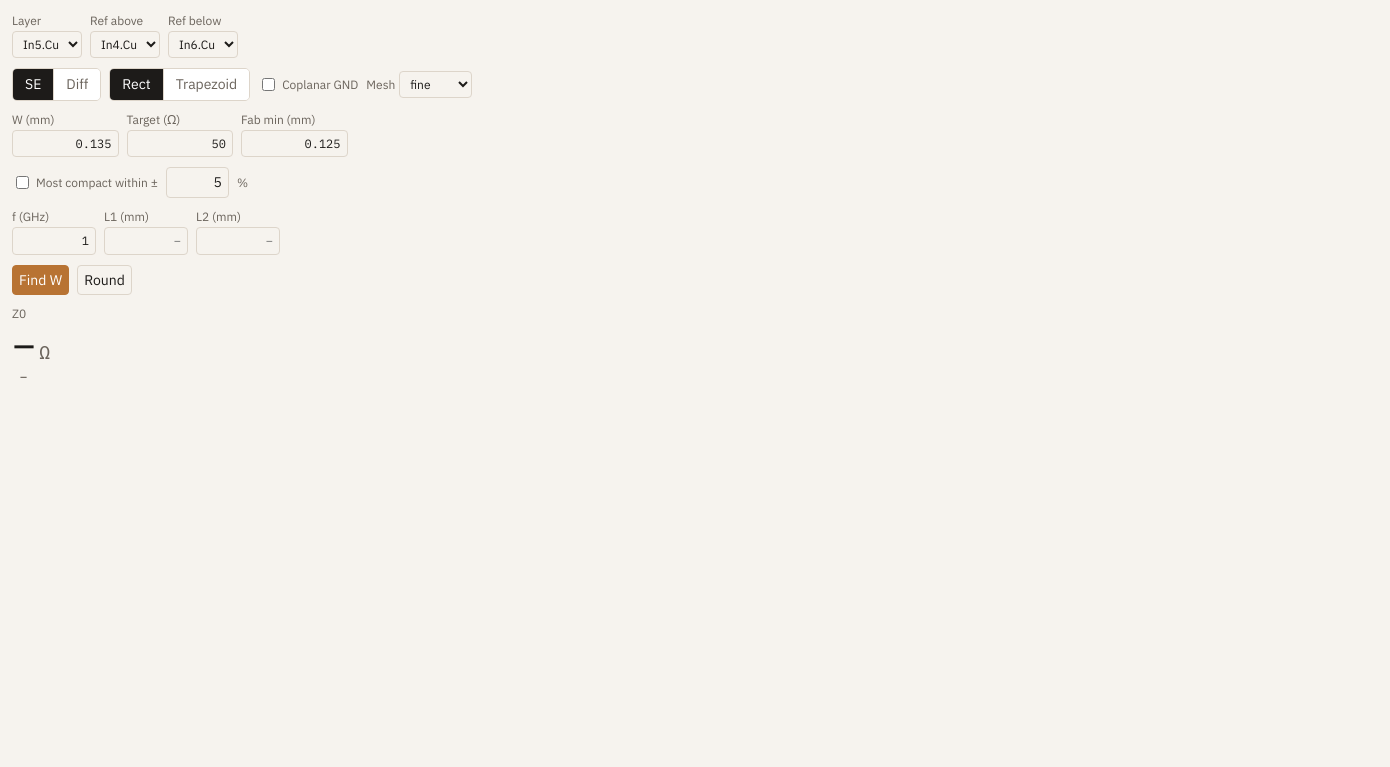
Scenario: Calculator › compact mode sends a compact job and writing W back does not re-run it
This screenshot has width=1390, height=767.
What coordinates should you click on to do the following:
click the checkbox labelled "Most compact within ±"
I would click on:
 (22, 183)
Its box is [16,176,29,189].
Wait 362 ms
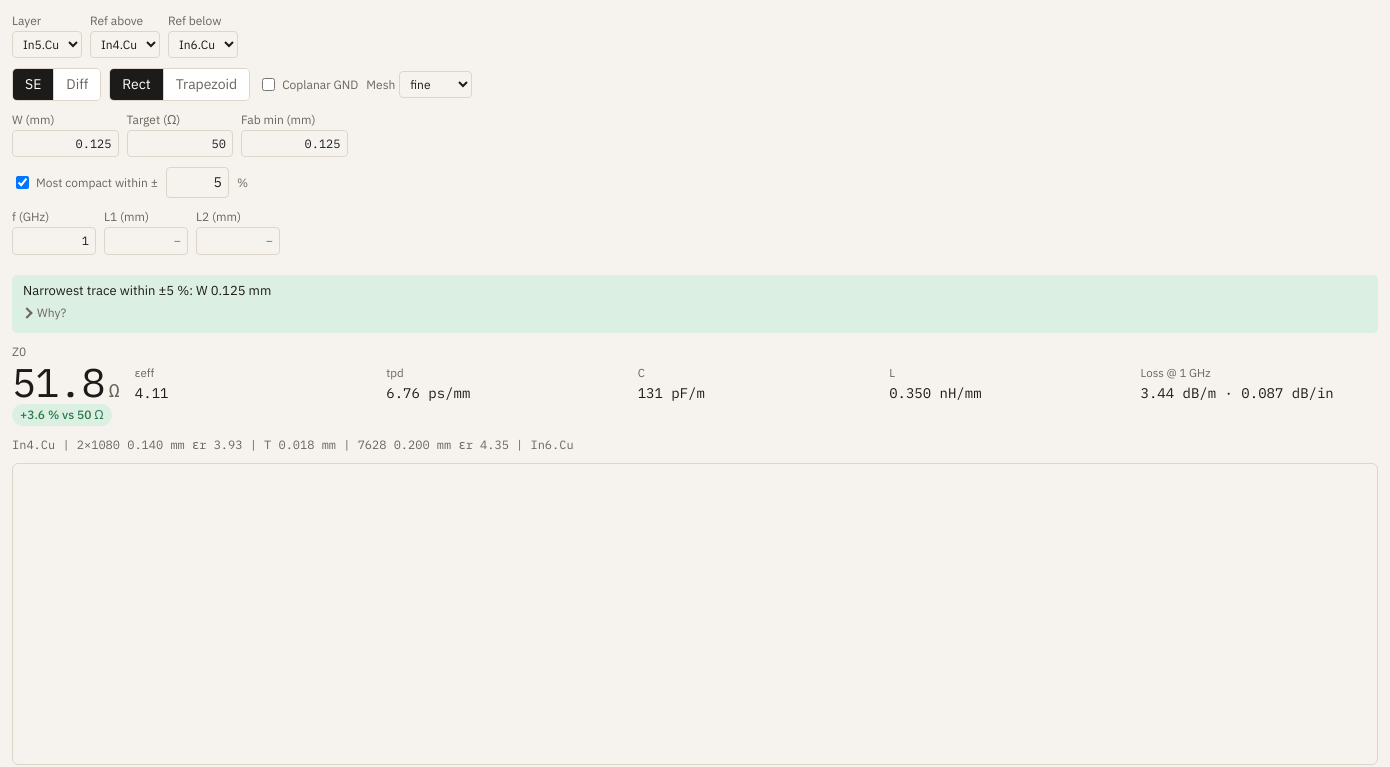
Expected: the field named "Width W" holds "0.125", [12,130,118,158]
Expected: the text "Narrowest trace within ±5 %: W 0.125 mm" is shown, [23,282,271,298]
